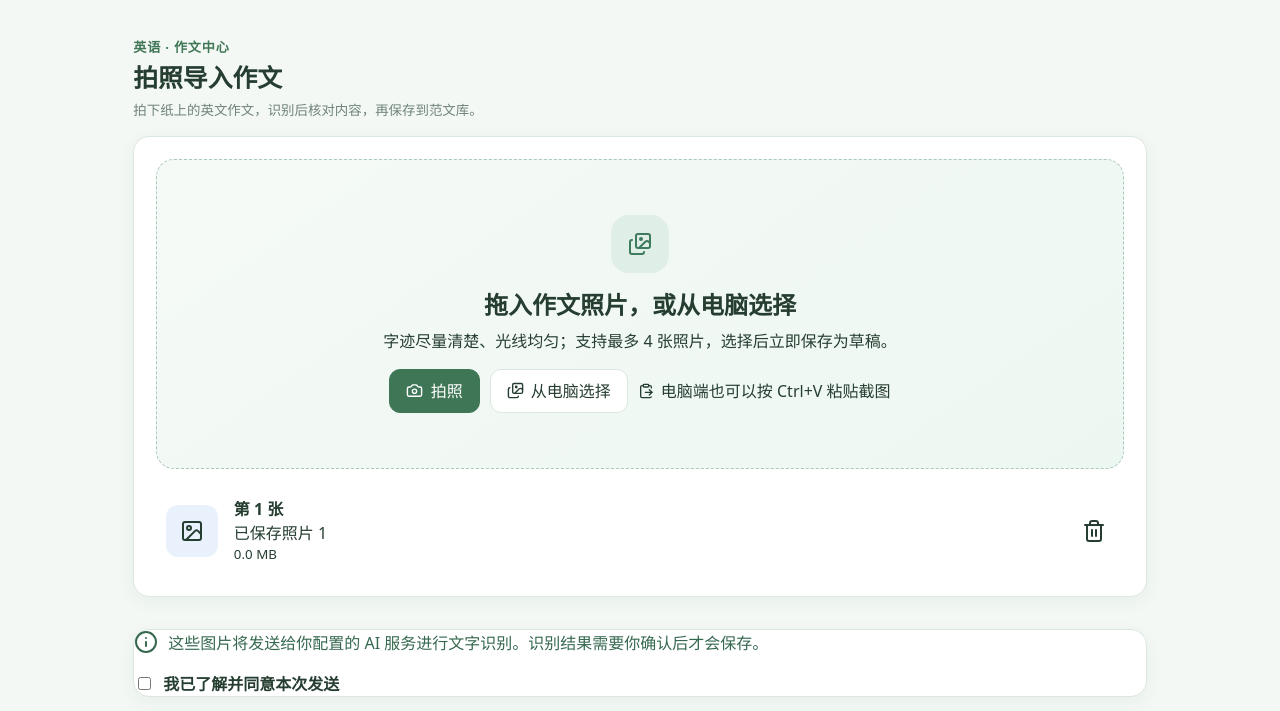
Test: keeps the draft and records the failure when recognition fails
Expected: the text "已保存照片 1" is shown, [234,522,327,544]
Click the checkbox labelled "我已了解并同意本次发送": (145, 684) [138,677,151,690]
(page scrolled)
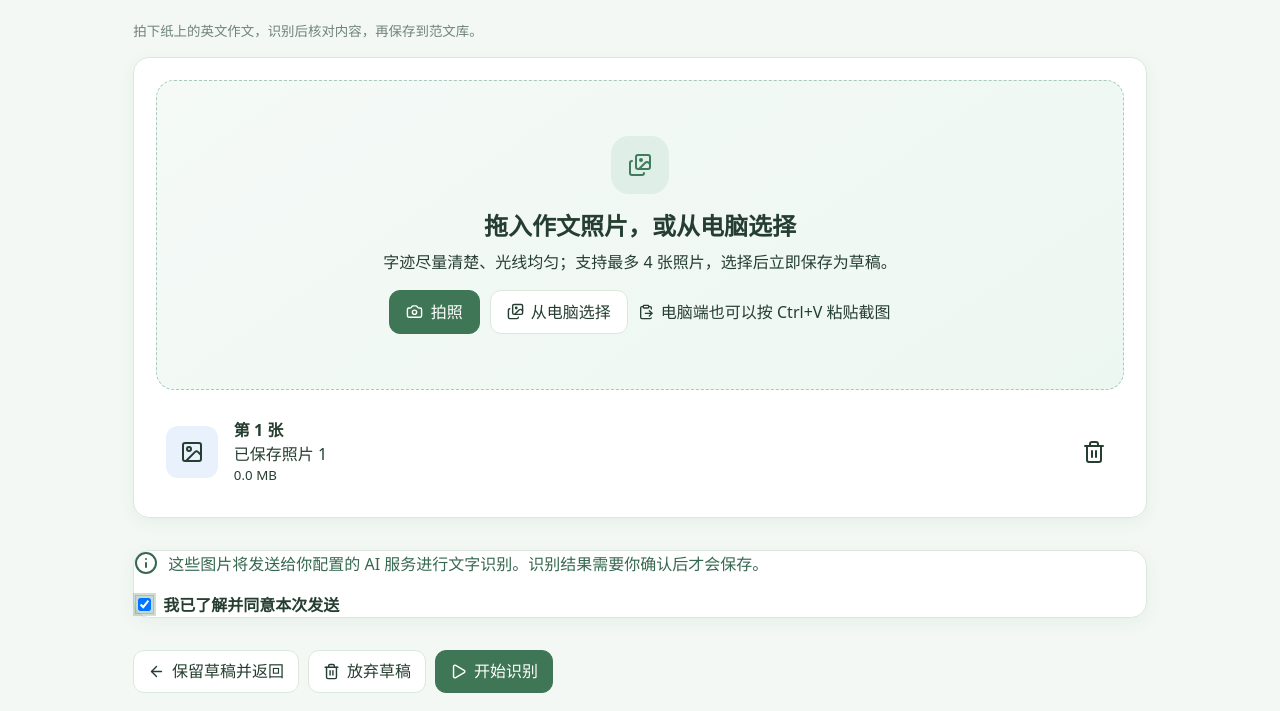
Click the button "开始识别": (494, 671) [435,650,553,693]
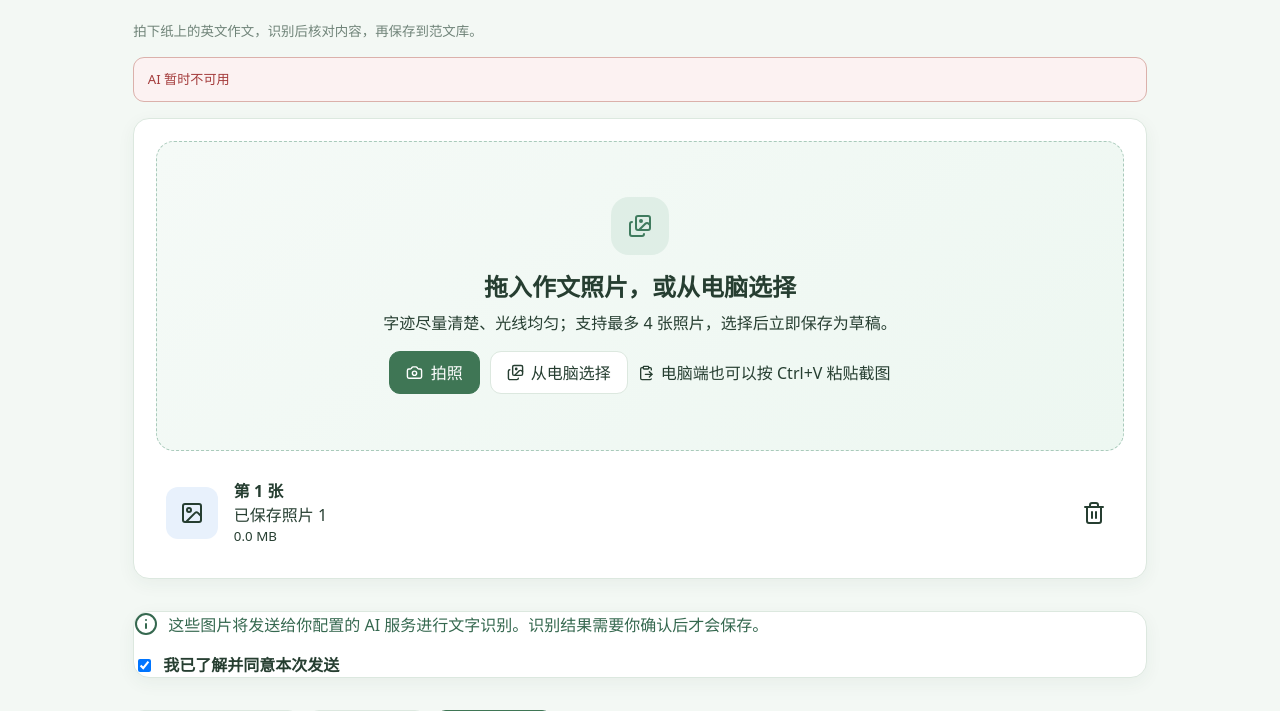
Expected: the text "已保存照片 1" is shown, [234,504,327,526]
Expected: the message reads "AI 暂时不可用", [148,70,230,88]
